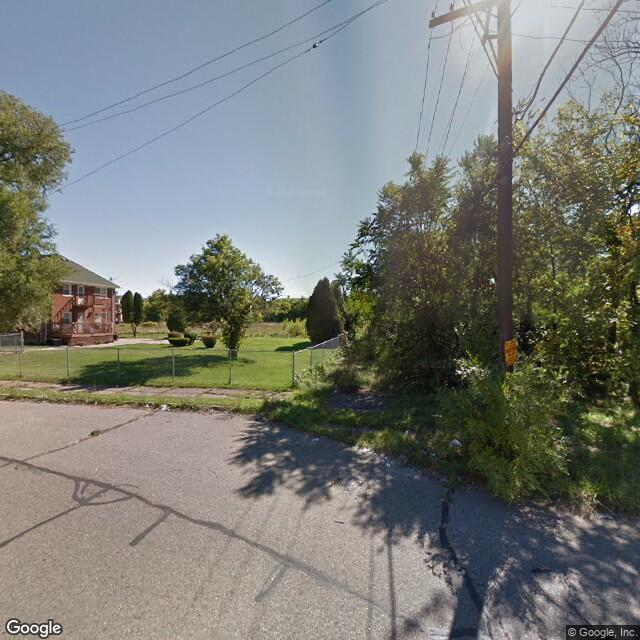litter: (447, 435, 465, 456), (411, 471, 427, 481), (161, 402, 169, 411), (361, 446, 371, 453), (309, 436, 319, 442)
